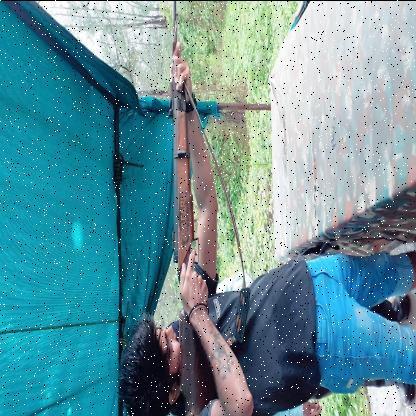rifle: (166, 1, 219, 416)
